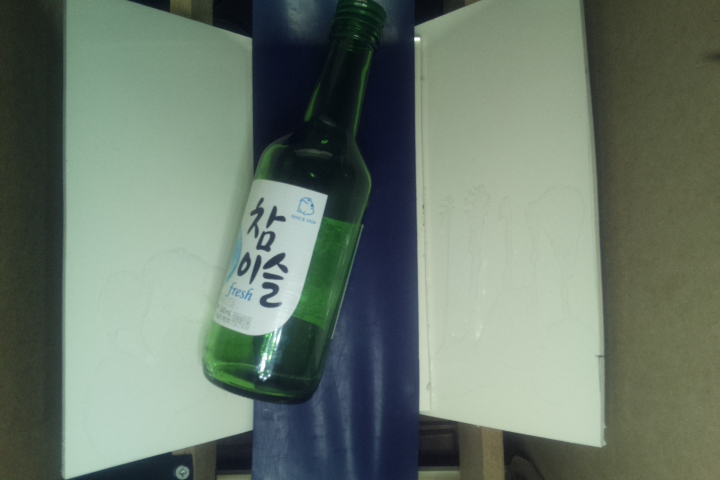soju: (195, 1, 388, 403)
